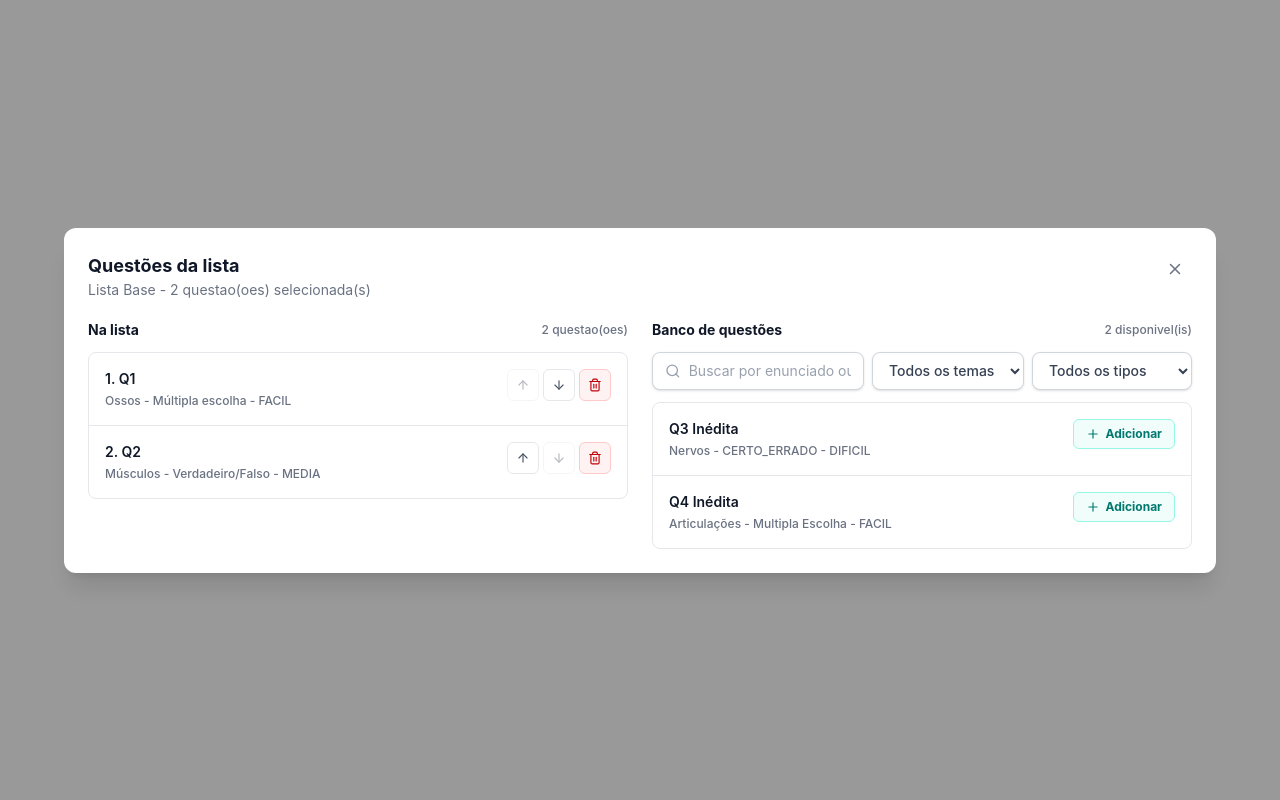
Scenario: ModalGerenciarQuestoesLista › filtro "Verdadeiro/Falso" reconhece questoes CERTO_ERRADO do banco
expect the text "Q3 Inédita" is shown: met, box [669,420,738,436]
Select "Verdadeiro/Falso" in the dropdown named "Filtrar questoes por tipo" at [1112, 370], box [1032,352,1192,390]
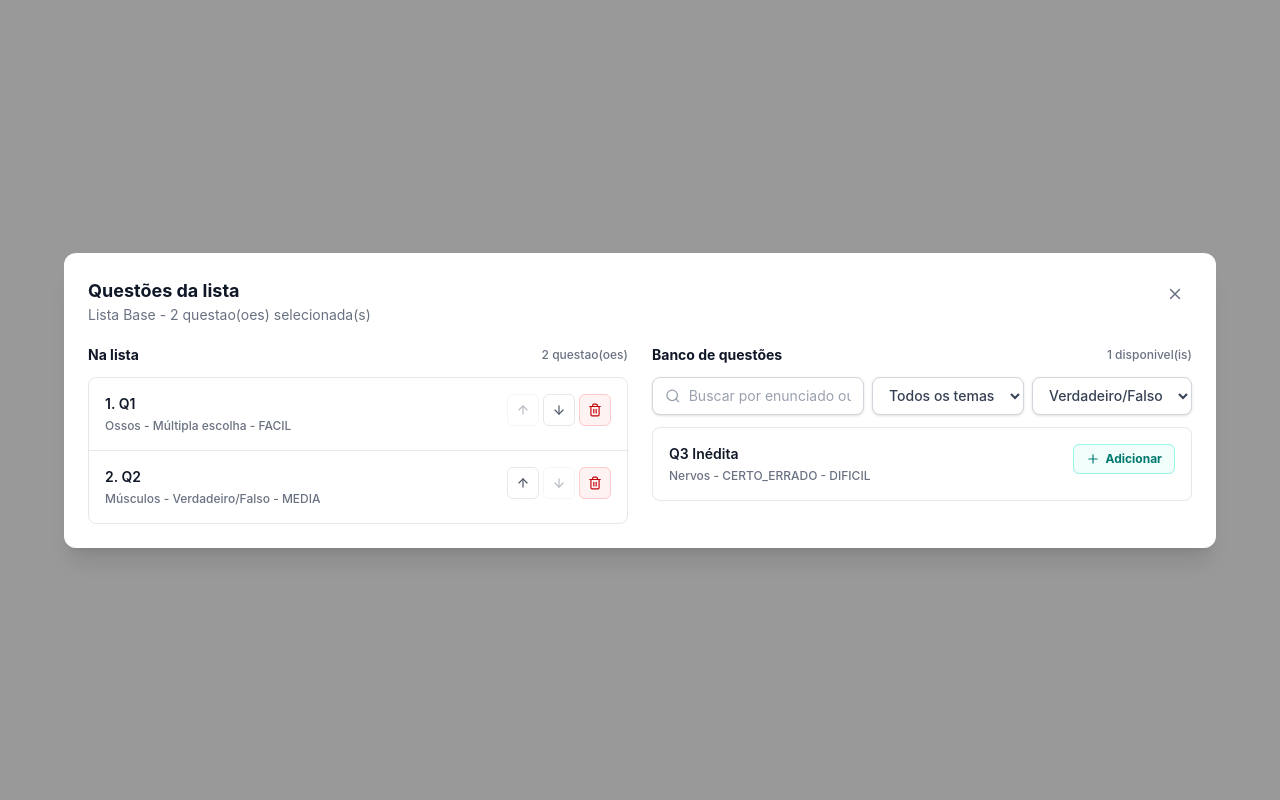
expect the text "Q3 Inédita" is shown: met, box [669,444,738,462]
expect the text "Q4 Inédita" is gone: met
